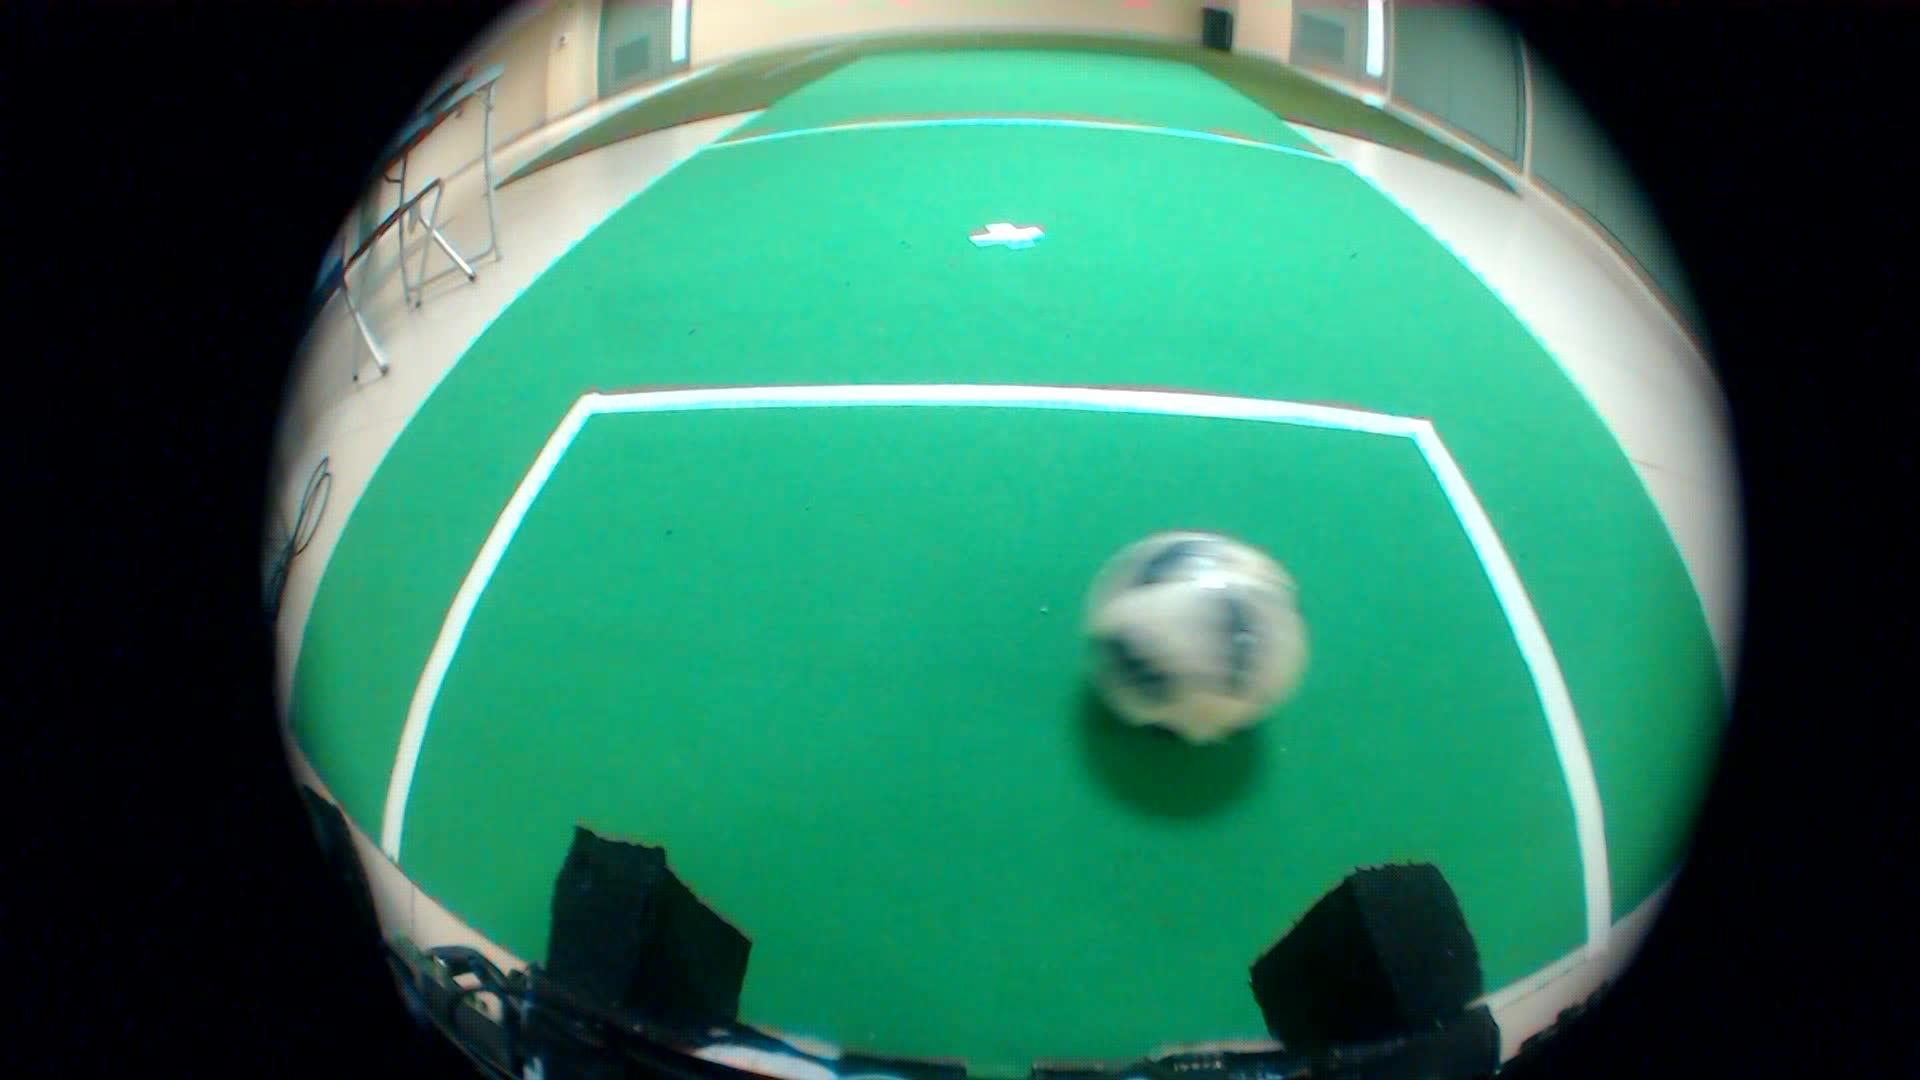ball: (1058, 501, 1335, 764)
